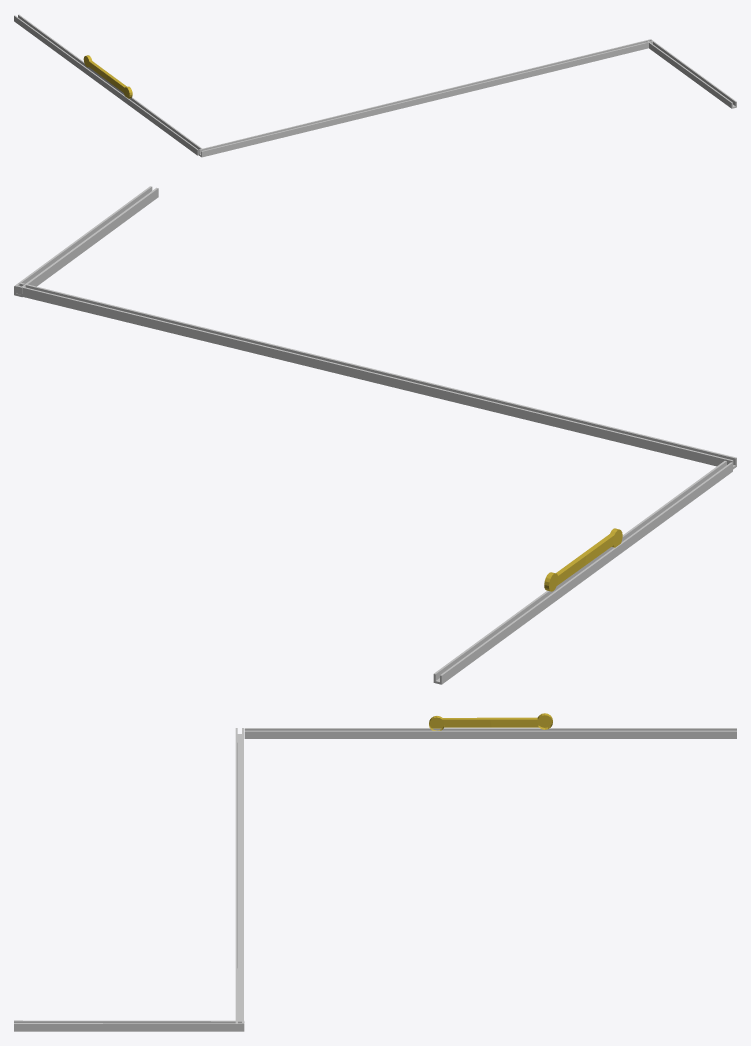
The model's file is Mine_SheerBit.fbx.
3 views of the same model, one above another, from view 1: azimuth 30°, elevation 25°; view 2: azimuth 150°, elevation 25°; view 3: azimuth 270°, elevation 25° (orthographic). The views are drawn at different scales.
Visible parts, largest first — view 1: Sheerer.001; view 2: Sheerer.001; view 3: Sheerer.001.
Boxes of the visible parts, <box> form: Sheerer.001: <box>14,14,736,157</box>; Sheerer.001: <box>14,186,736,684</box>; Sheerer.001: <box>14,713,736,1031</box>.
Bounding box in the file's own units: 2689 × 97.68 × 2770.
